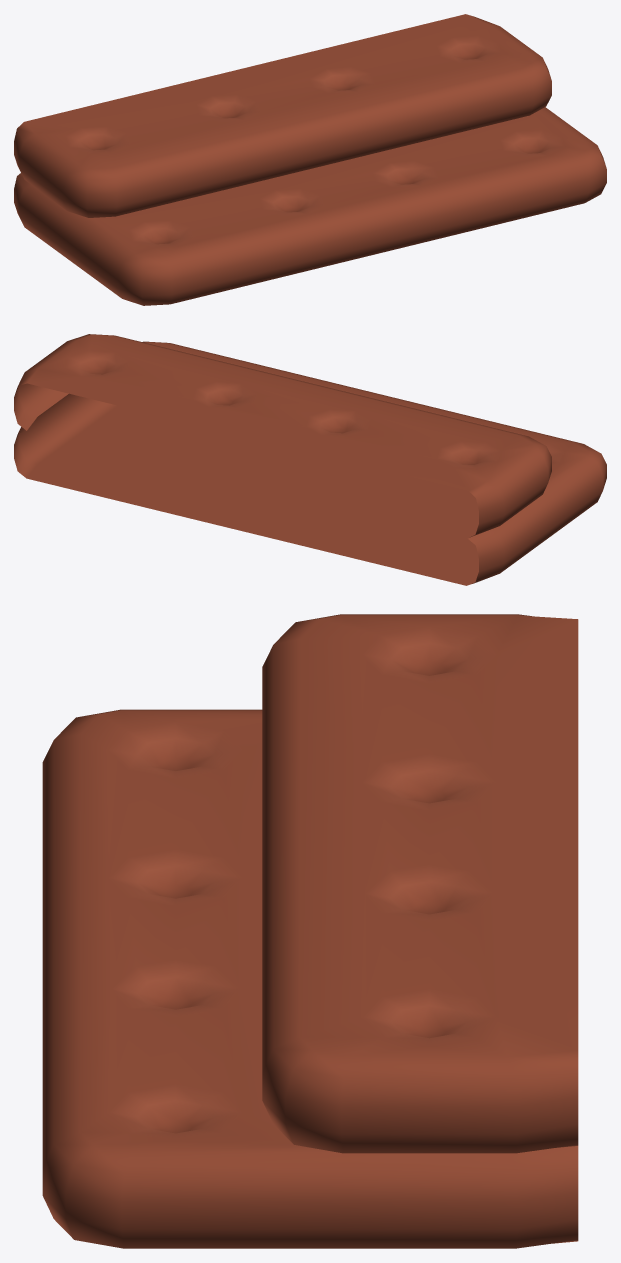
Rendered from Cookie_002.fbx.
3 views of the same model, one above another, from view 1: azimuth 30°, elevation 25°; view 2: azimuth 150°, elevation 25°; view 3: azimuth 270°, elevation 25° (orthographic). The views are drawn at different scales.
Parts seen in each view (by area): view 1: Cookie_002; view 2: Cookie_002; view 3: Cookie_002.
Part boxes in pixels (bbox=[...]): Cookie_002: bbox=[14, 14, 606, 305]; Cookie_002: bbox=[14, 334, 606, 585]; Cookie_002: bbox=[42, 614, 578, 1248].
Bounding box in the file's own units: 1.84 × 0.3459 × 0.8814.
